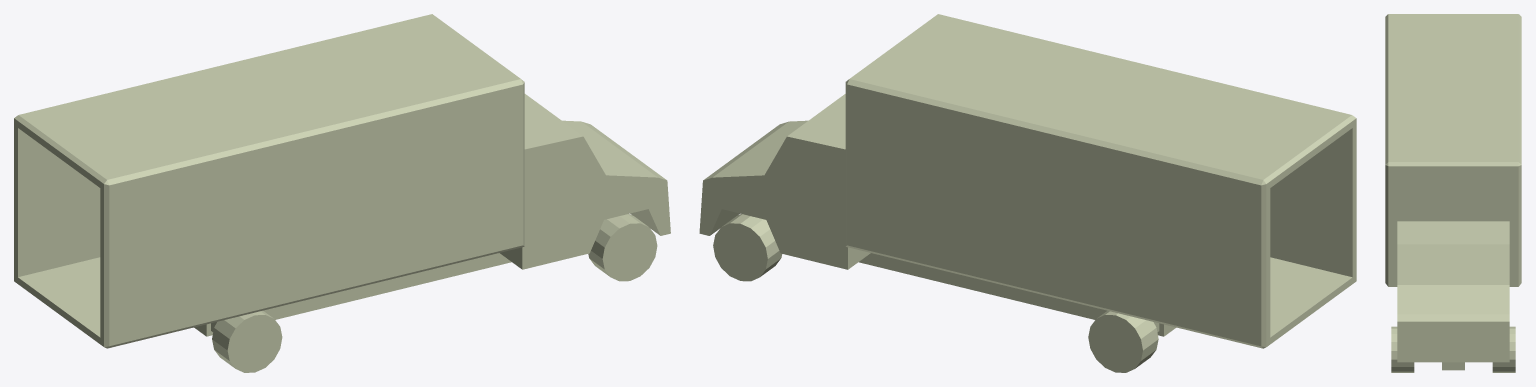
The model's file is box-truck.obj.
3 renders of one model, left to right at view 1: azimuth 30°, elevation 25°; view 2: azimuth 150°, elevation 25°; view 3: azimuth 270°, elevation 25°, orthographic. The views are drawn at different scales.
Visible parts, largest first — view 1: Cube1, Cube9, Cylinder3_copy6, Cylinder3_copy5, Cube2; view 2: Cube1, Cube9, Cylinder3_copy4, Cylinder3, Cube2; view 3: Cube1, Cube9, Cylinder3_copy6, Cylinder3_copy4, Cube2.
Boxes of the visible parts, bbox=[...] form: Cube1: bbox=[14, 14, 524, 348]; Cube9: bbox=[500, 94, 670, 269]; Cylinder3_copy6: bbox=[588, 214, 657, 281]; Cylinder3_copy5: bbox=[212, 310, 282, 372]; Cube2: bbox=[194, 253, 511, 336]; Cube1: bbox=[845, 14, 1356, 348]; Cube9: bbox=[699, 94, 870, 269]; Cylinder3_copy4: bbox=[713, 214, 782, 281]; Cylinder3: bbox=[1088, 310, 1158, 372]; Cube2: bbox=[859, 253, 1176, 336]; Cube1: bbox=[1385, 14, 1521, 286]; Cube9: bbox=[1397, 221, 1509, 362]; Cylinder3_copy6: bbox=[1391, 326, 1414, 372]; Cylinder3_copy4: bbox=[1492, 326, 1515, 372]; Cube2: bbox=[1442, 362, 1464, 370].
Size of the model in its own units: 7.12 by 2.73 by 2.
